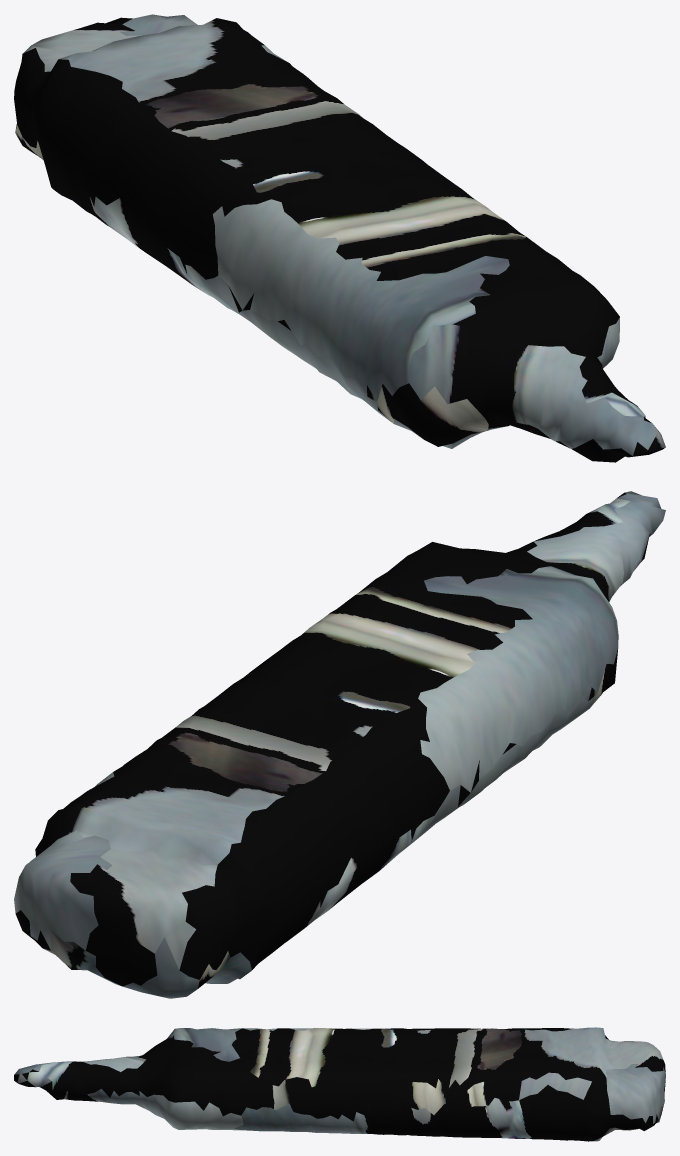
The model's file is scan_align.obj.
3 renders of one model, top to bottom at view 1: azimuth 30°, elevation 25°; view 2: azimuth 150°, elevation 25°; view 3: azimuth 270°, elevation 25°, orthographic. The views are drawn at different scales.
Size of the model in its own units: 0.0258 by 0.0159 by 0.1079.
